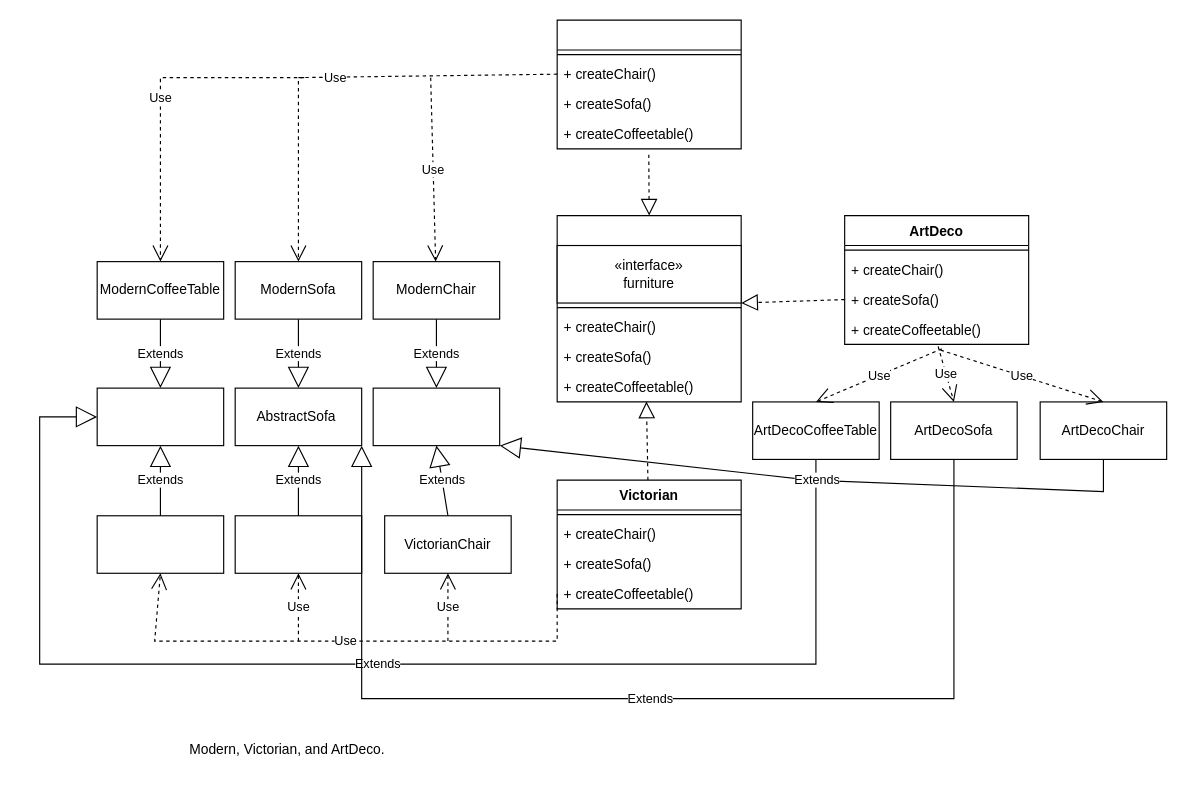
This 1187x788 diagram has some shape labels left out. Each missing label, with the box of its shape:
AbstractChair: (372, 387, 500, 446)
AbstractCoffeetable: (96, 387, 224, 446)
Modern: (556, 19, 741, 149)
VictorianCoffeeTable: (96, 515, 224, 573)
VictorianSofa: (234, 515, 362, 573)
